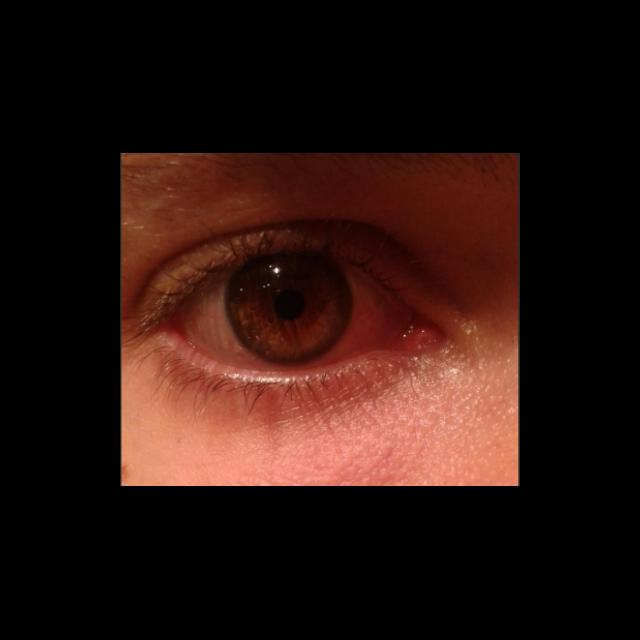eye: (183, 250, 394, 375)
iris: (228, 255, 353, 364)
